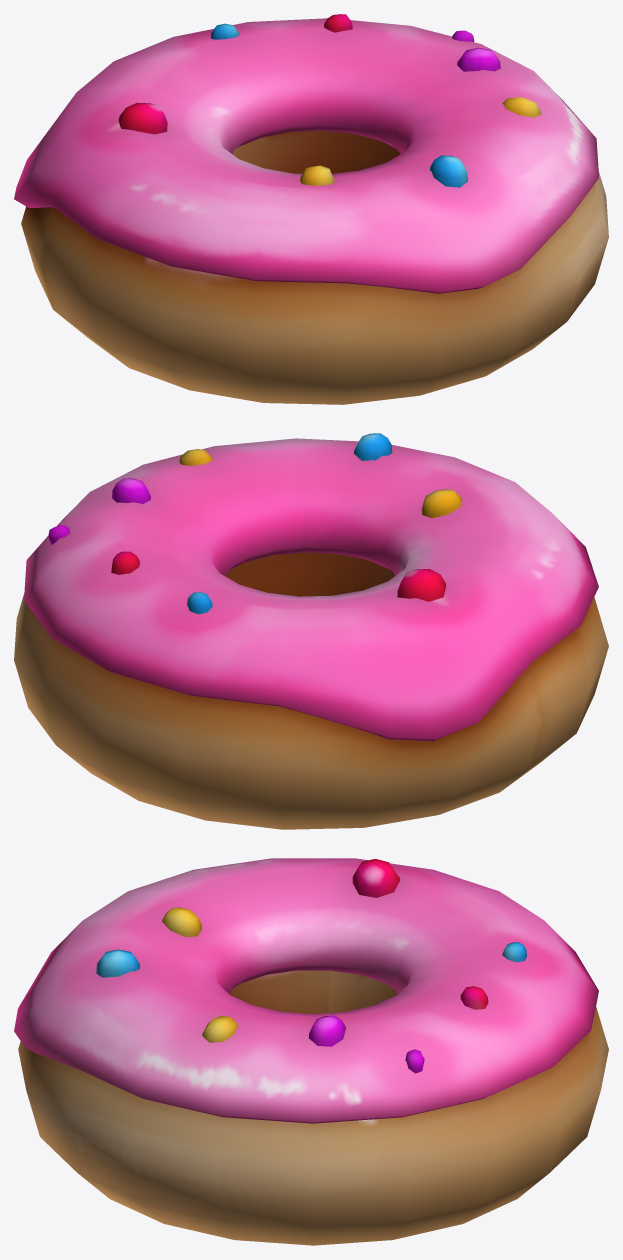
The model's file is Fresi Donut.fbx.
3 views of the same model, one above another, from view 1: azimuth 30°, elevation 25°; view 2: azimuth 150°, elevation 25°; view 3: azimuth 270°, elevation 25° (orthographic).
Parts seen in each view (by area): view 1: Donut_pink; view 2: Donut_pink; view 3: Donut_pink.
Boxes of the visible parts, x1,y1,x2,y2 form: Donut_pink: (14,14,608,404); Donut_pink: (14,433,608,829); Donut_pink: (14,858,608,1245).
Bounding box in the file's own units: 23.37 × 9.8 × 23.62.
1 material, 1 textured.
